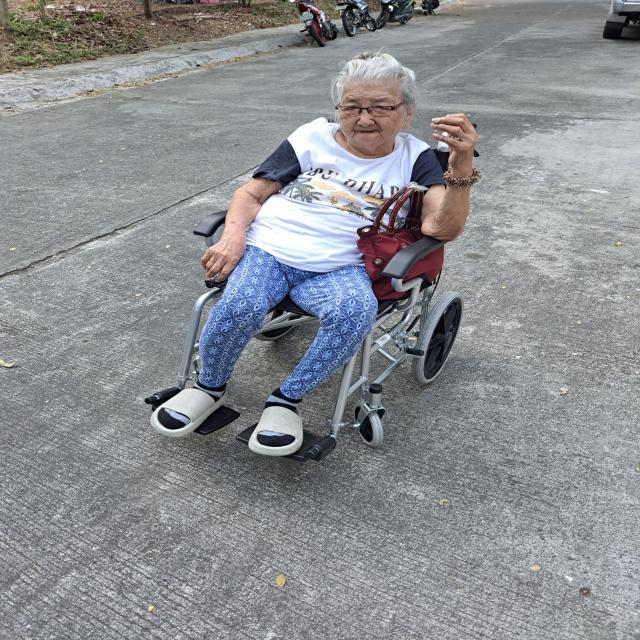wheelchairs: (146, 117, 479, 460)
